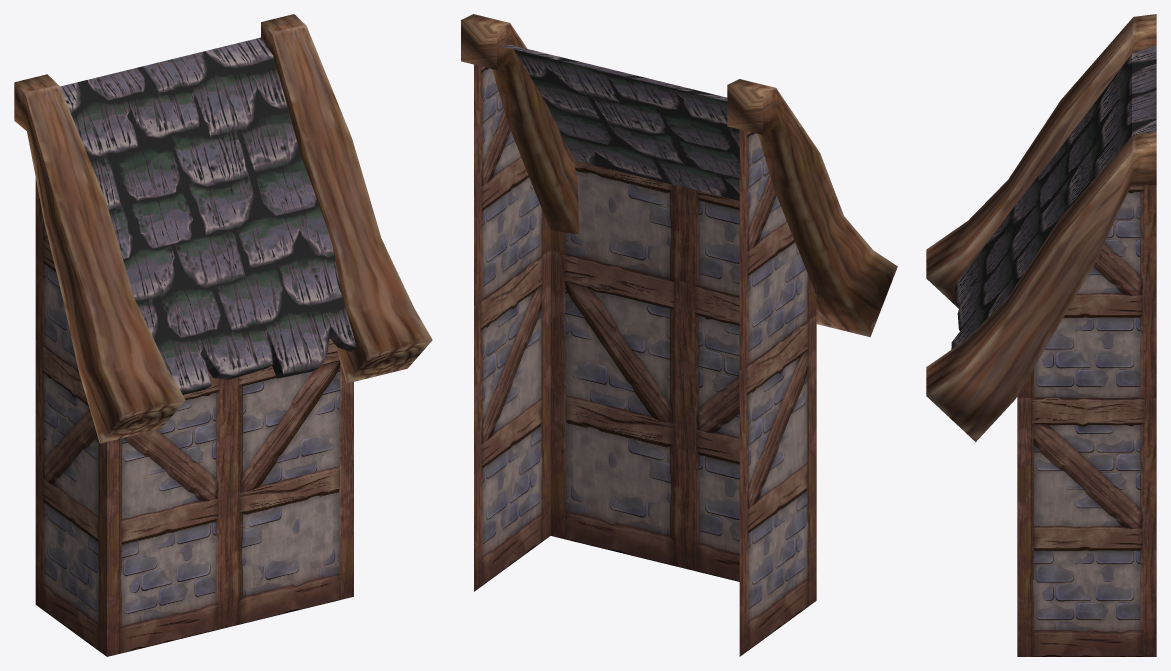
Rendered from wall_roof_median1x1.fbx.
The picture shows the model from 3 angles, left to right: view 1: azimuth 30°, elevation 25°; view 2: azimuth 150°, elevation 25°; view 3: azimuth 270°, elevation 25°; orthographic projection. The views are drawn at different scales.
Visible parts, largest first — view 1: wall_roofmedian1x1; view 2: wall_roofmedian1x1; view 3: wall_roofmedian1x1.
Boxes of the visible parts, x1=… form: wall_roofmedian1x1: x1=14, y1=14, x2=432, y2=656; wall_roofmedian1x1: x1=461, y1=14, x2=897, y2=656; wall_roofmedian1x1: x1=926, y1=14, x2=1156, y2=656.
Size of the model in its own units: 187 by 306 by 124.
